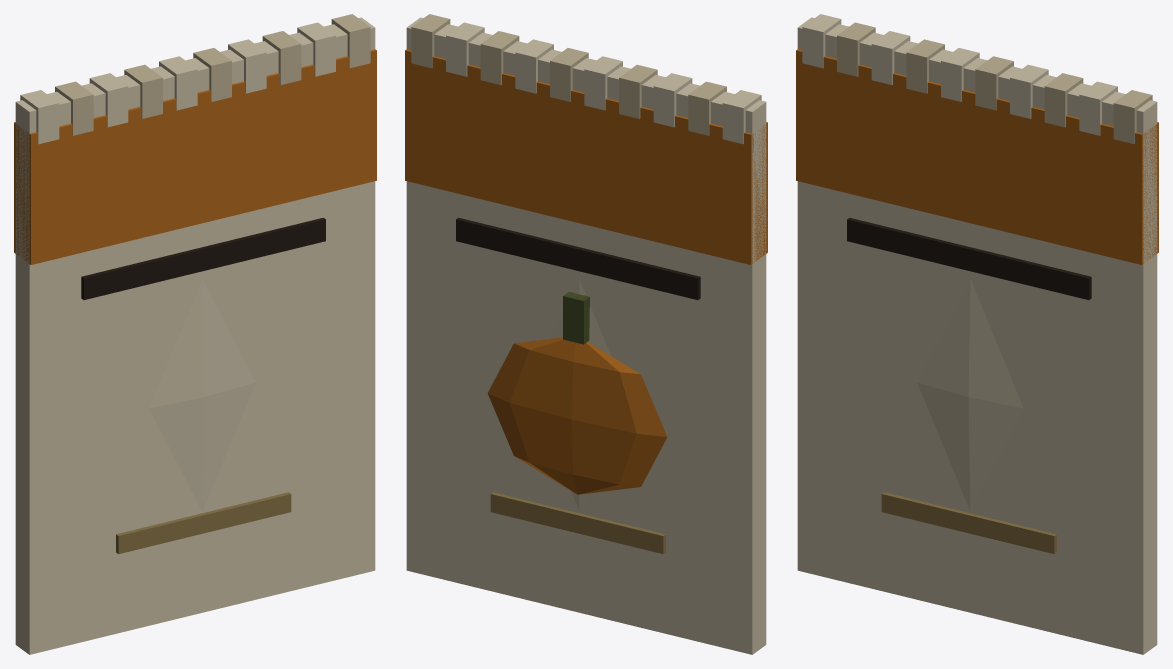
The model's file is tool_seed_packet_pumpkin.glb.
3 views of the same model, side by side, from view 1: azimuth 30°, elevation 25°; view 2: azimuth 150°, elevation 25°; view 3: azimuth 330°, elevation 25° (orthographic).
Visible parts, largest first — view 1: Packet; view 2: Packet; view 3: Packet.
Boxes of the visible parts, x1,y1,x2,y2 form: Packet: (14,14,376,654); Packet: (405,14,767,654); Packet: (796,14,1158,654).
Bounding box in the file's own units: 0.1 × 0.151 × 0.0122.
